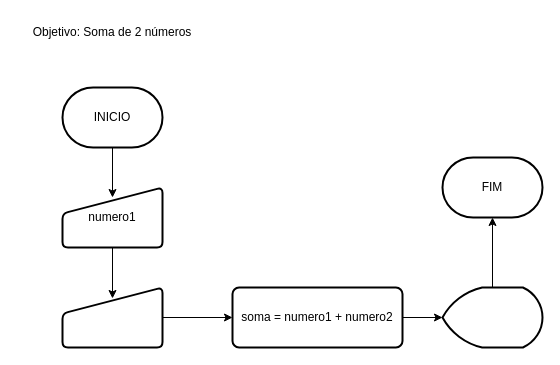
The diagram is 560 pixels wide and 365 high, and some of its shapes have lost their labels. Each missing label, with the centre of its shape:
numero2: [112,317]
soma: [492,317]
